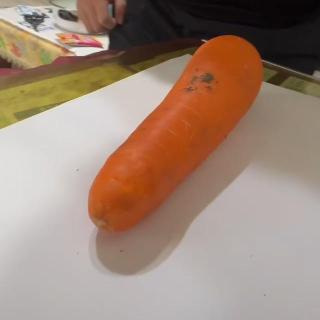carrot: (88, 34, 264, 234)
